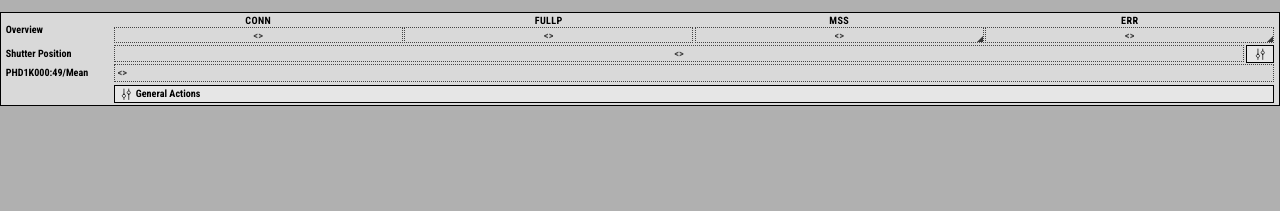
Test: GeneralSection › exposes lifecycle actions behind a single "General Actions" cog toggle
Expected: the button "Start Laser" is not shown
Click the button "General Actions" at point(168, 94), box x1=114 y1=85 x2=1274 y2=103
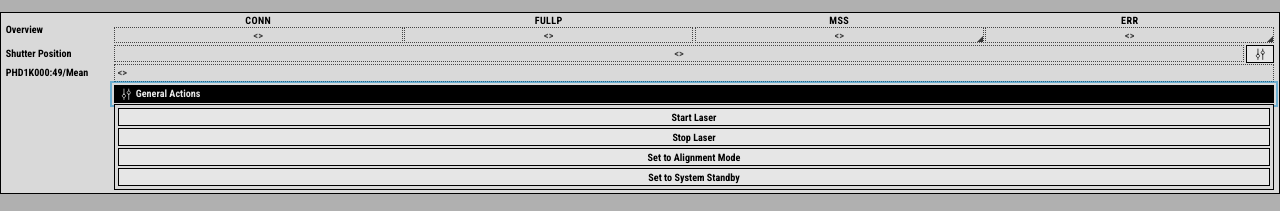
Now the button "Start Laser" is shown, box x1=118 y1=108 x2=1270 y2=126
Now the button "Stop Laser" is shown, box x1=118 y1=128 x2=1270 y2=146
Now the button "Set to Alignment Mode" is shown, box x1=118 y1=148 x2=1270 y2=166
